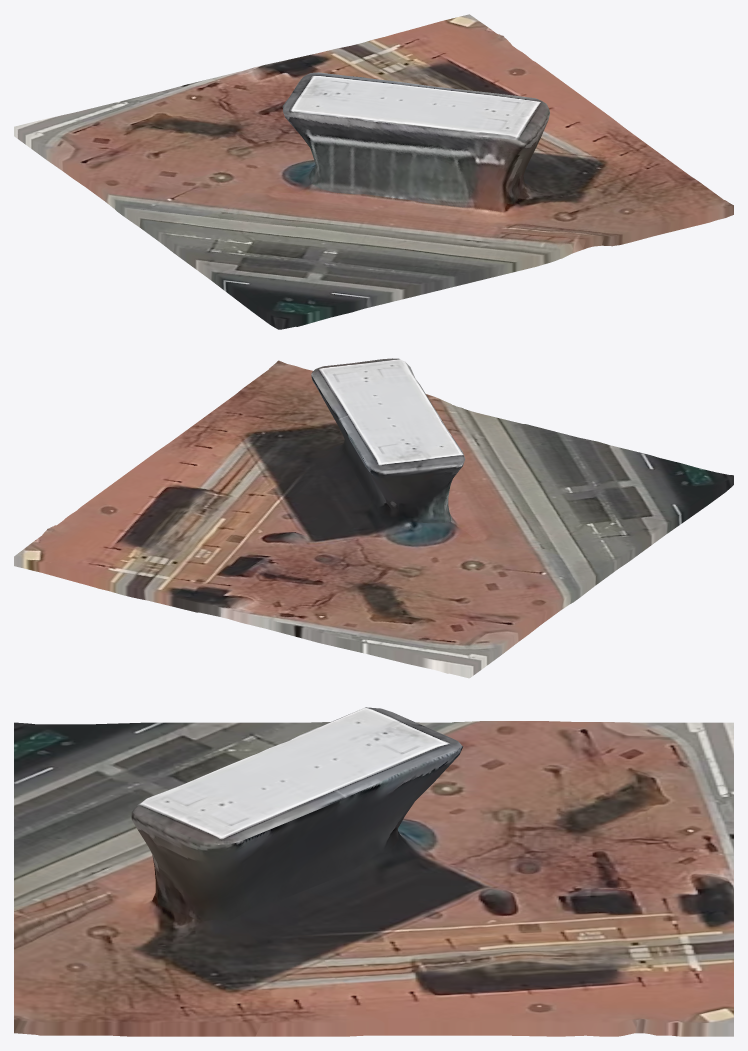
The model's file is z20-167783-405227-h0-yup-uvflip-v3-world.glb.
The picture shows the model from 3 angles, top to bottom: view 1: azimuth 30°, elevation 25°; view 2: azimuth 150°, elevation 25°; view 3: azimuth 270°, elevation 25°; orthographic projection. The views are drawn at different scales.
Bounding box in the file's own units: 30.16 × 5.92 × 30.32.
1 material, 1 textured.
